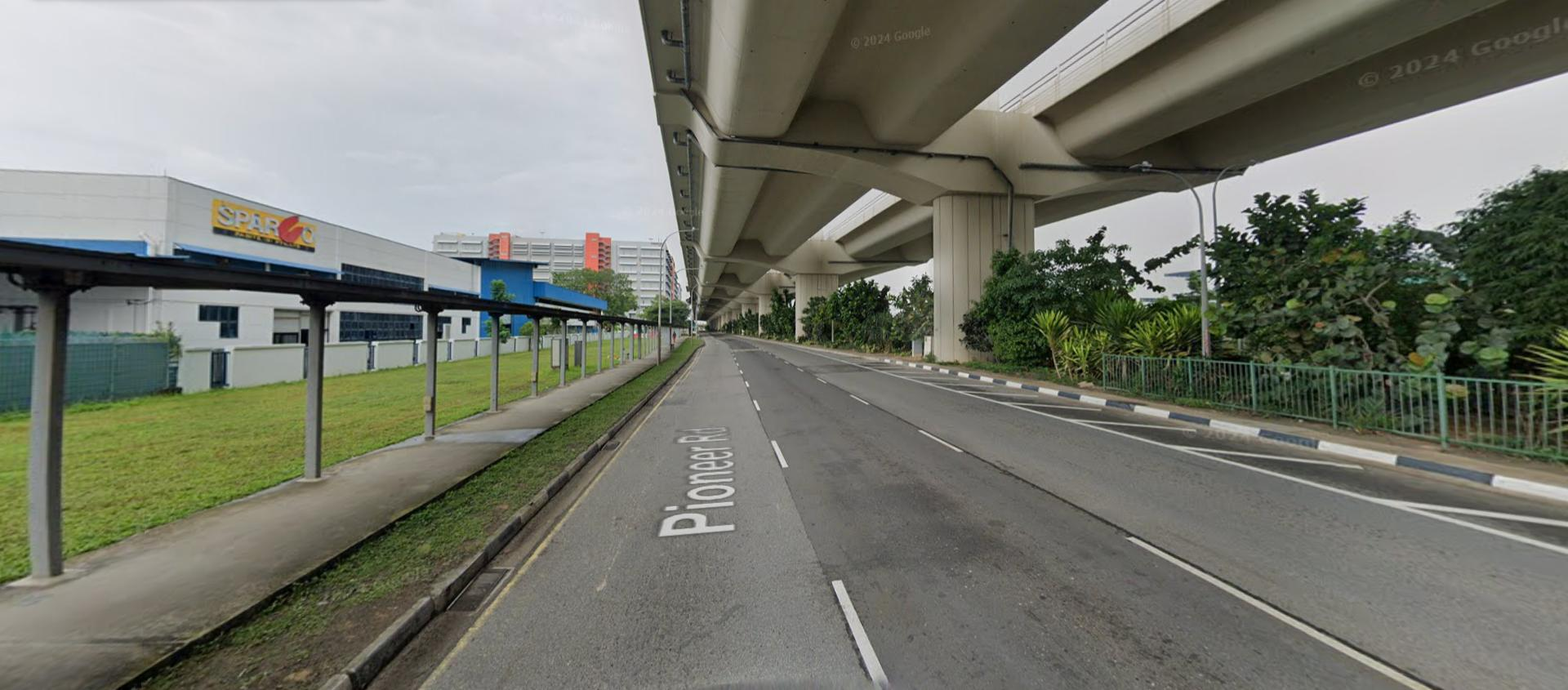defect: (449, 568, 514, 611)
